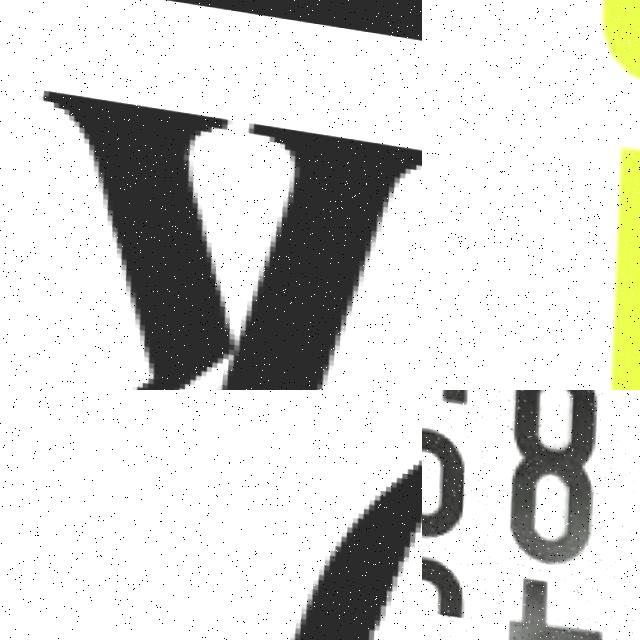1: (569, 138, 640, 390)
4: (476, 569, 615, 640)
8: (484, 390, 614, 576)
9: (422, 390, 487, 541)
J: (102, 390, 422, 640)
K: (0, 68, 422, 390)
